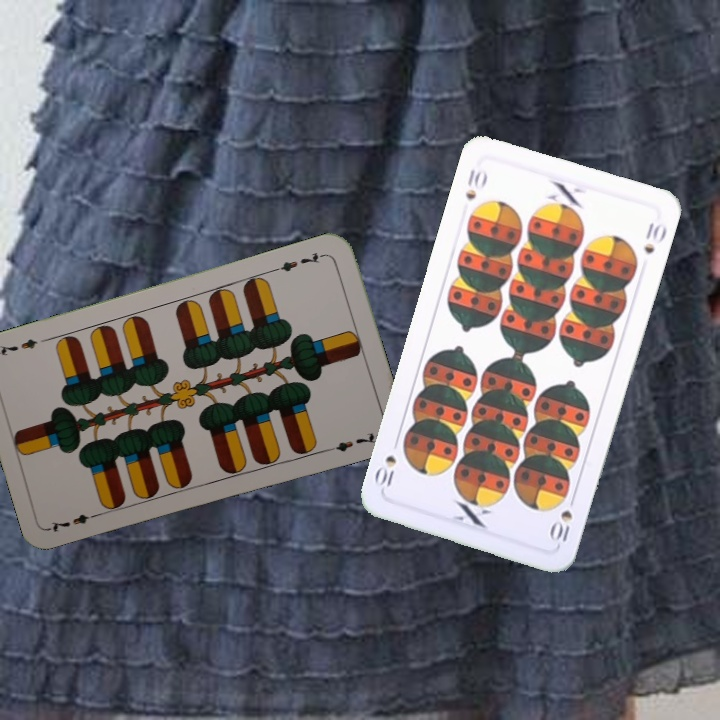E7: (46, 508, 104, 535), (271, 248, 329, 274)
S10: (547, 490, 579, 548), (461, 165, 490, 203)
